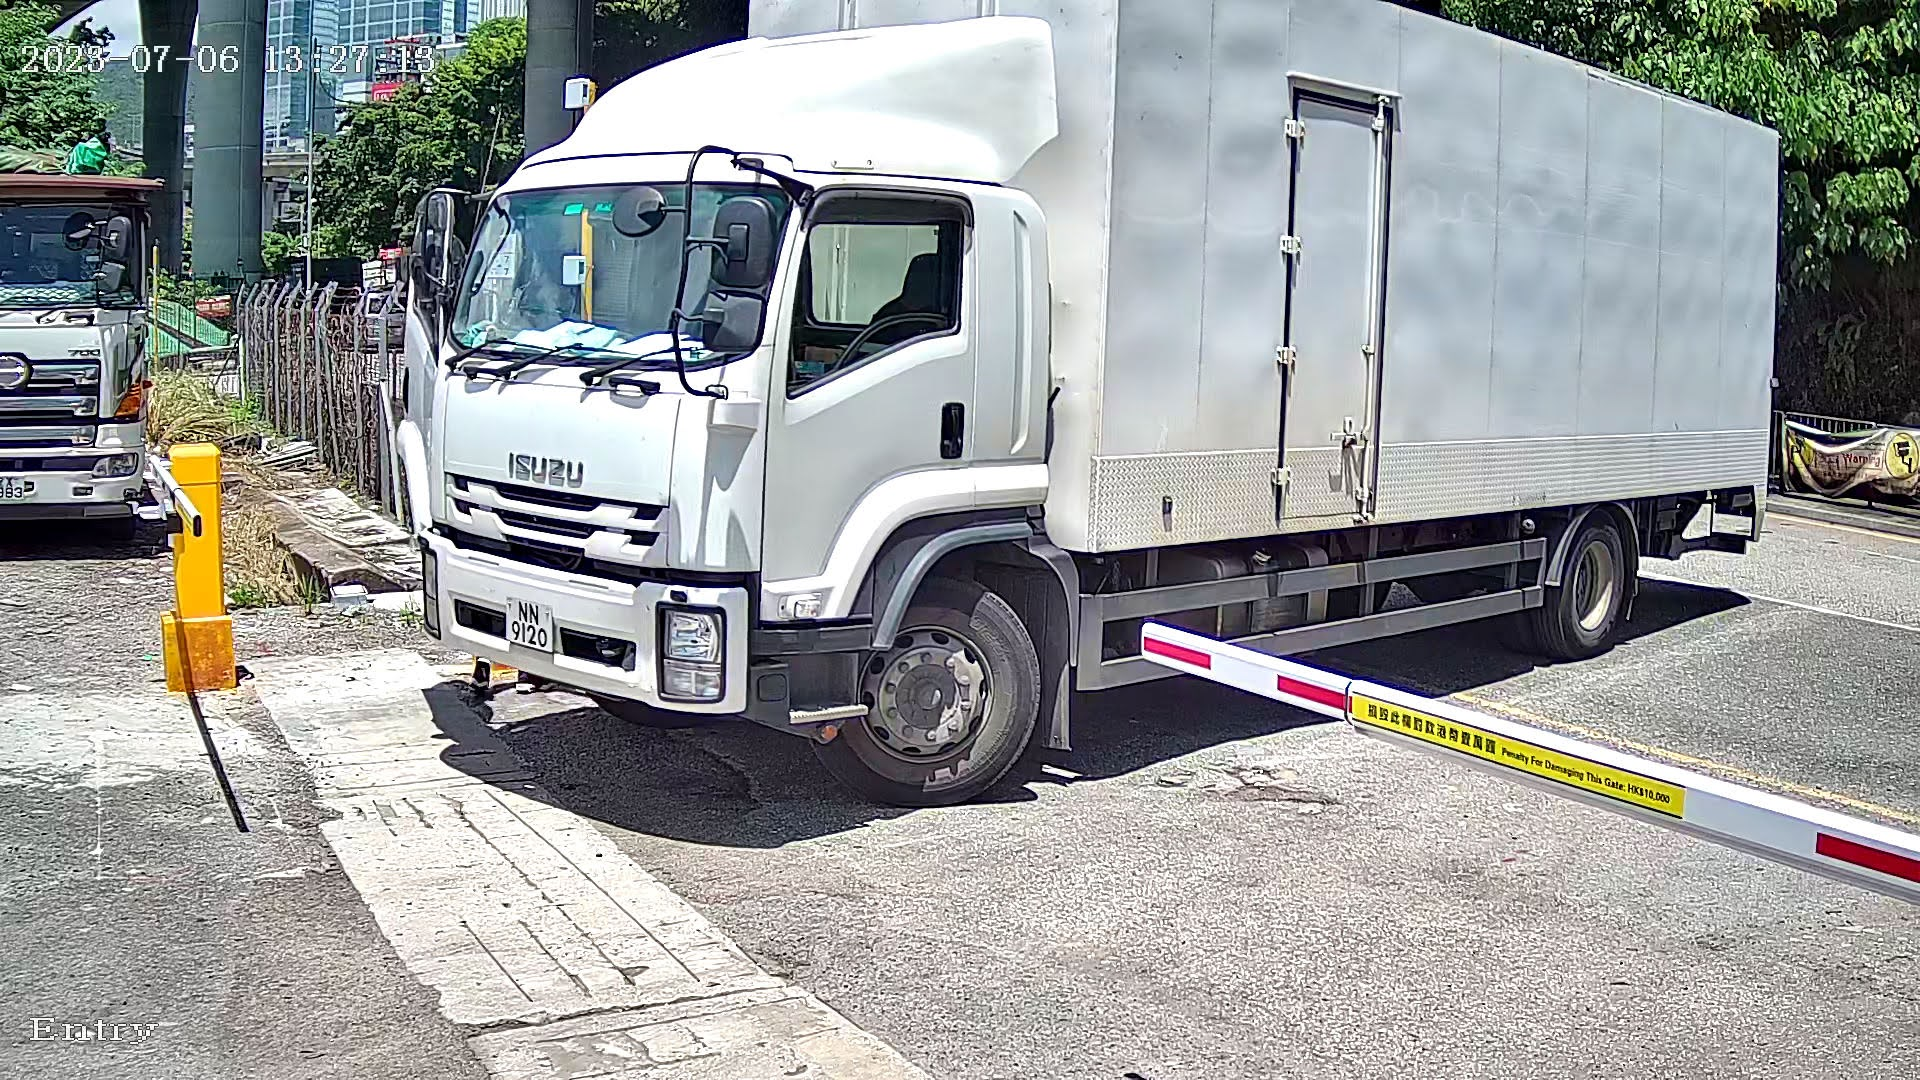truck: (394, 1, 1834, 843)
